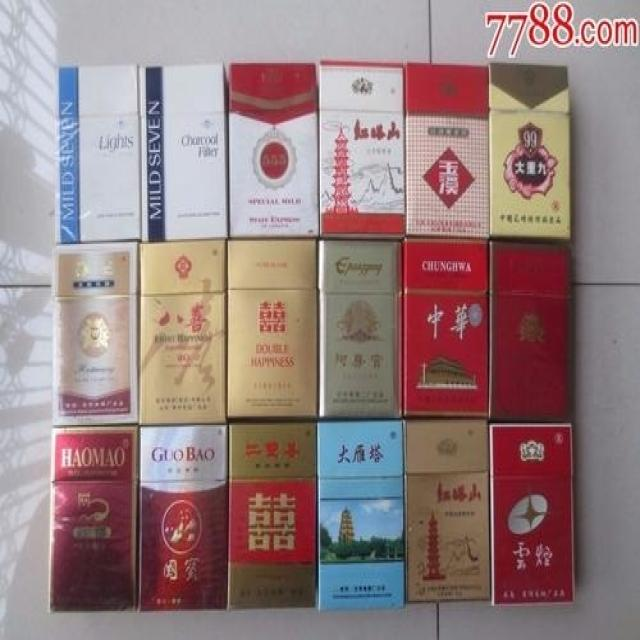box: (316, 418, 406, 609), (227, 420, 317, 609), (137, 239, 228, 425), (137, 425, 228, 611), (227, 239, 319, 422), (402, 416, 490, 606), (51, 241, 141, 425), (49, 425, 137, 613), (137, 63, 228, 241), (227, 63, 319, 239), (489, 420, 575, 608), (317, 60, 404, 241), (317, 237, 403, 420), (402, 239, 490, 416), (404, 61, 490, 241), (55, 65, 141, 244), (489, 241, 573, 422), (489, 63, 571, 242)
